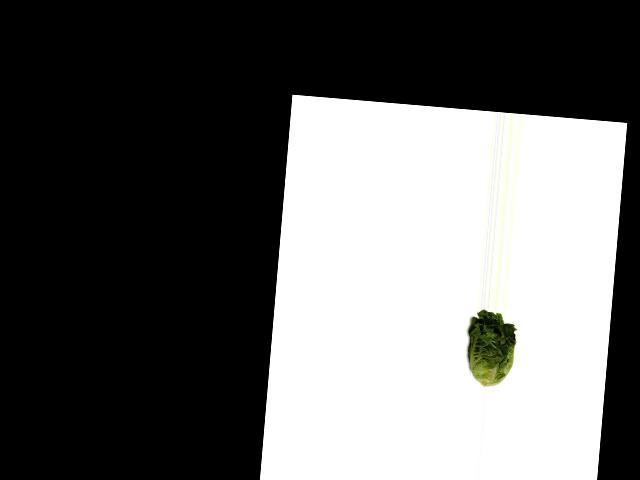lettuce: (461, 310, 522, 389)
